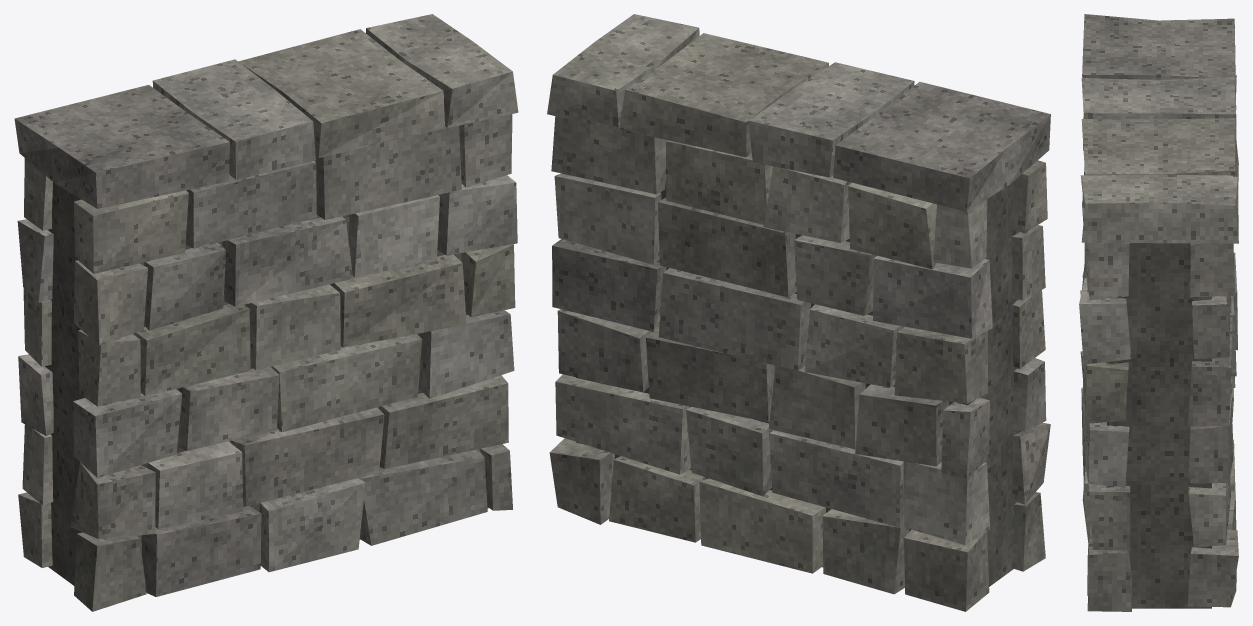
File: muro_pedra.glb
The picture shows the model from 3 angles, left to right: view 1: azimuth 30°, elevation 25°; view 2: azimuth 150°, elevation 25°; view 3: azimuth 270°, elevation 25°; orthographic projection. The views are drawn at different scales.
Visible parts, largest first — view 1: muro_pedra_pedra; view 2: muro_pedra_pedra; view 3: muro_pedra_pedra.
Boxes of the visible parts, <box> form: muro_pedra_pedra: <box>14,14,518,611</box>; muro_pedra_pedra: <box>547,14,1050,611</box>; muro_pedra_pedra: <box>1079,14,1238,611</box>.
Size of the model in its own units: 3.01 by 3.02 by 1.07.
1 material, 1 textured.
